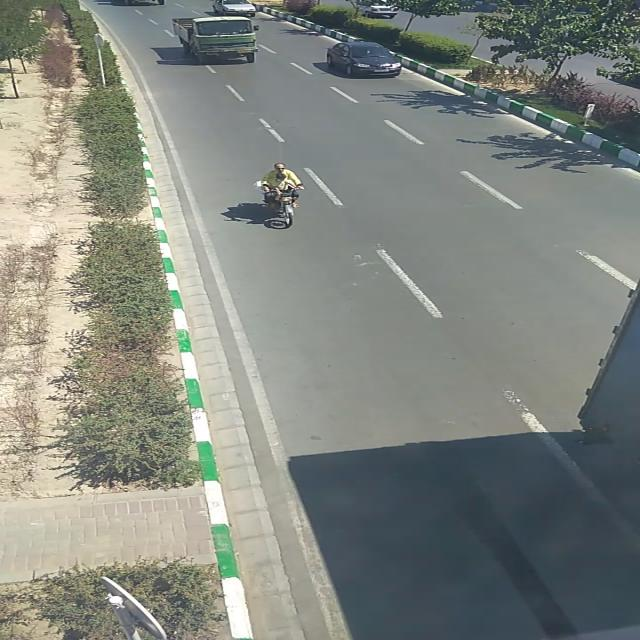car: (327, 41, 404, 79), (213, 1, 255, 16), (359, 2, 398, 18)
motor: (257, 162, 305, 228)
truck: (172, 15, 258, 66)
